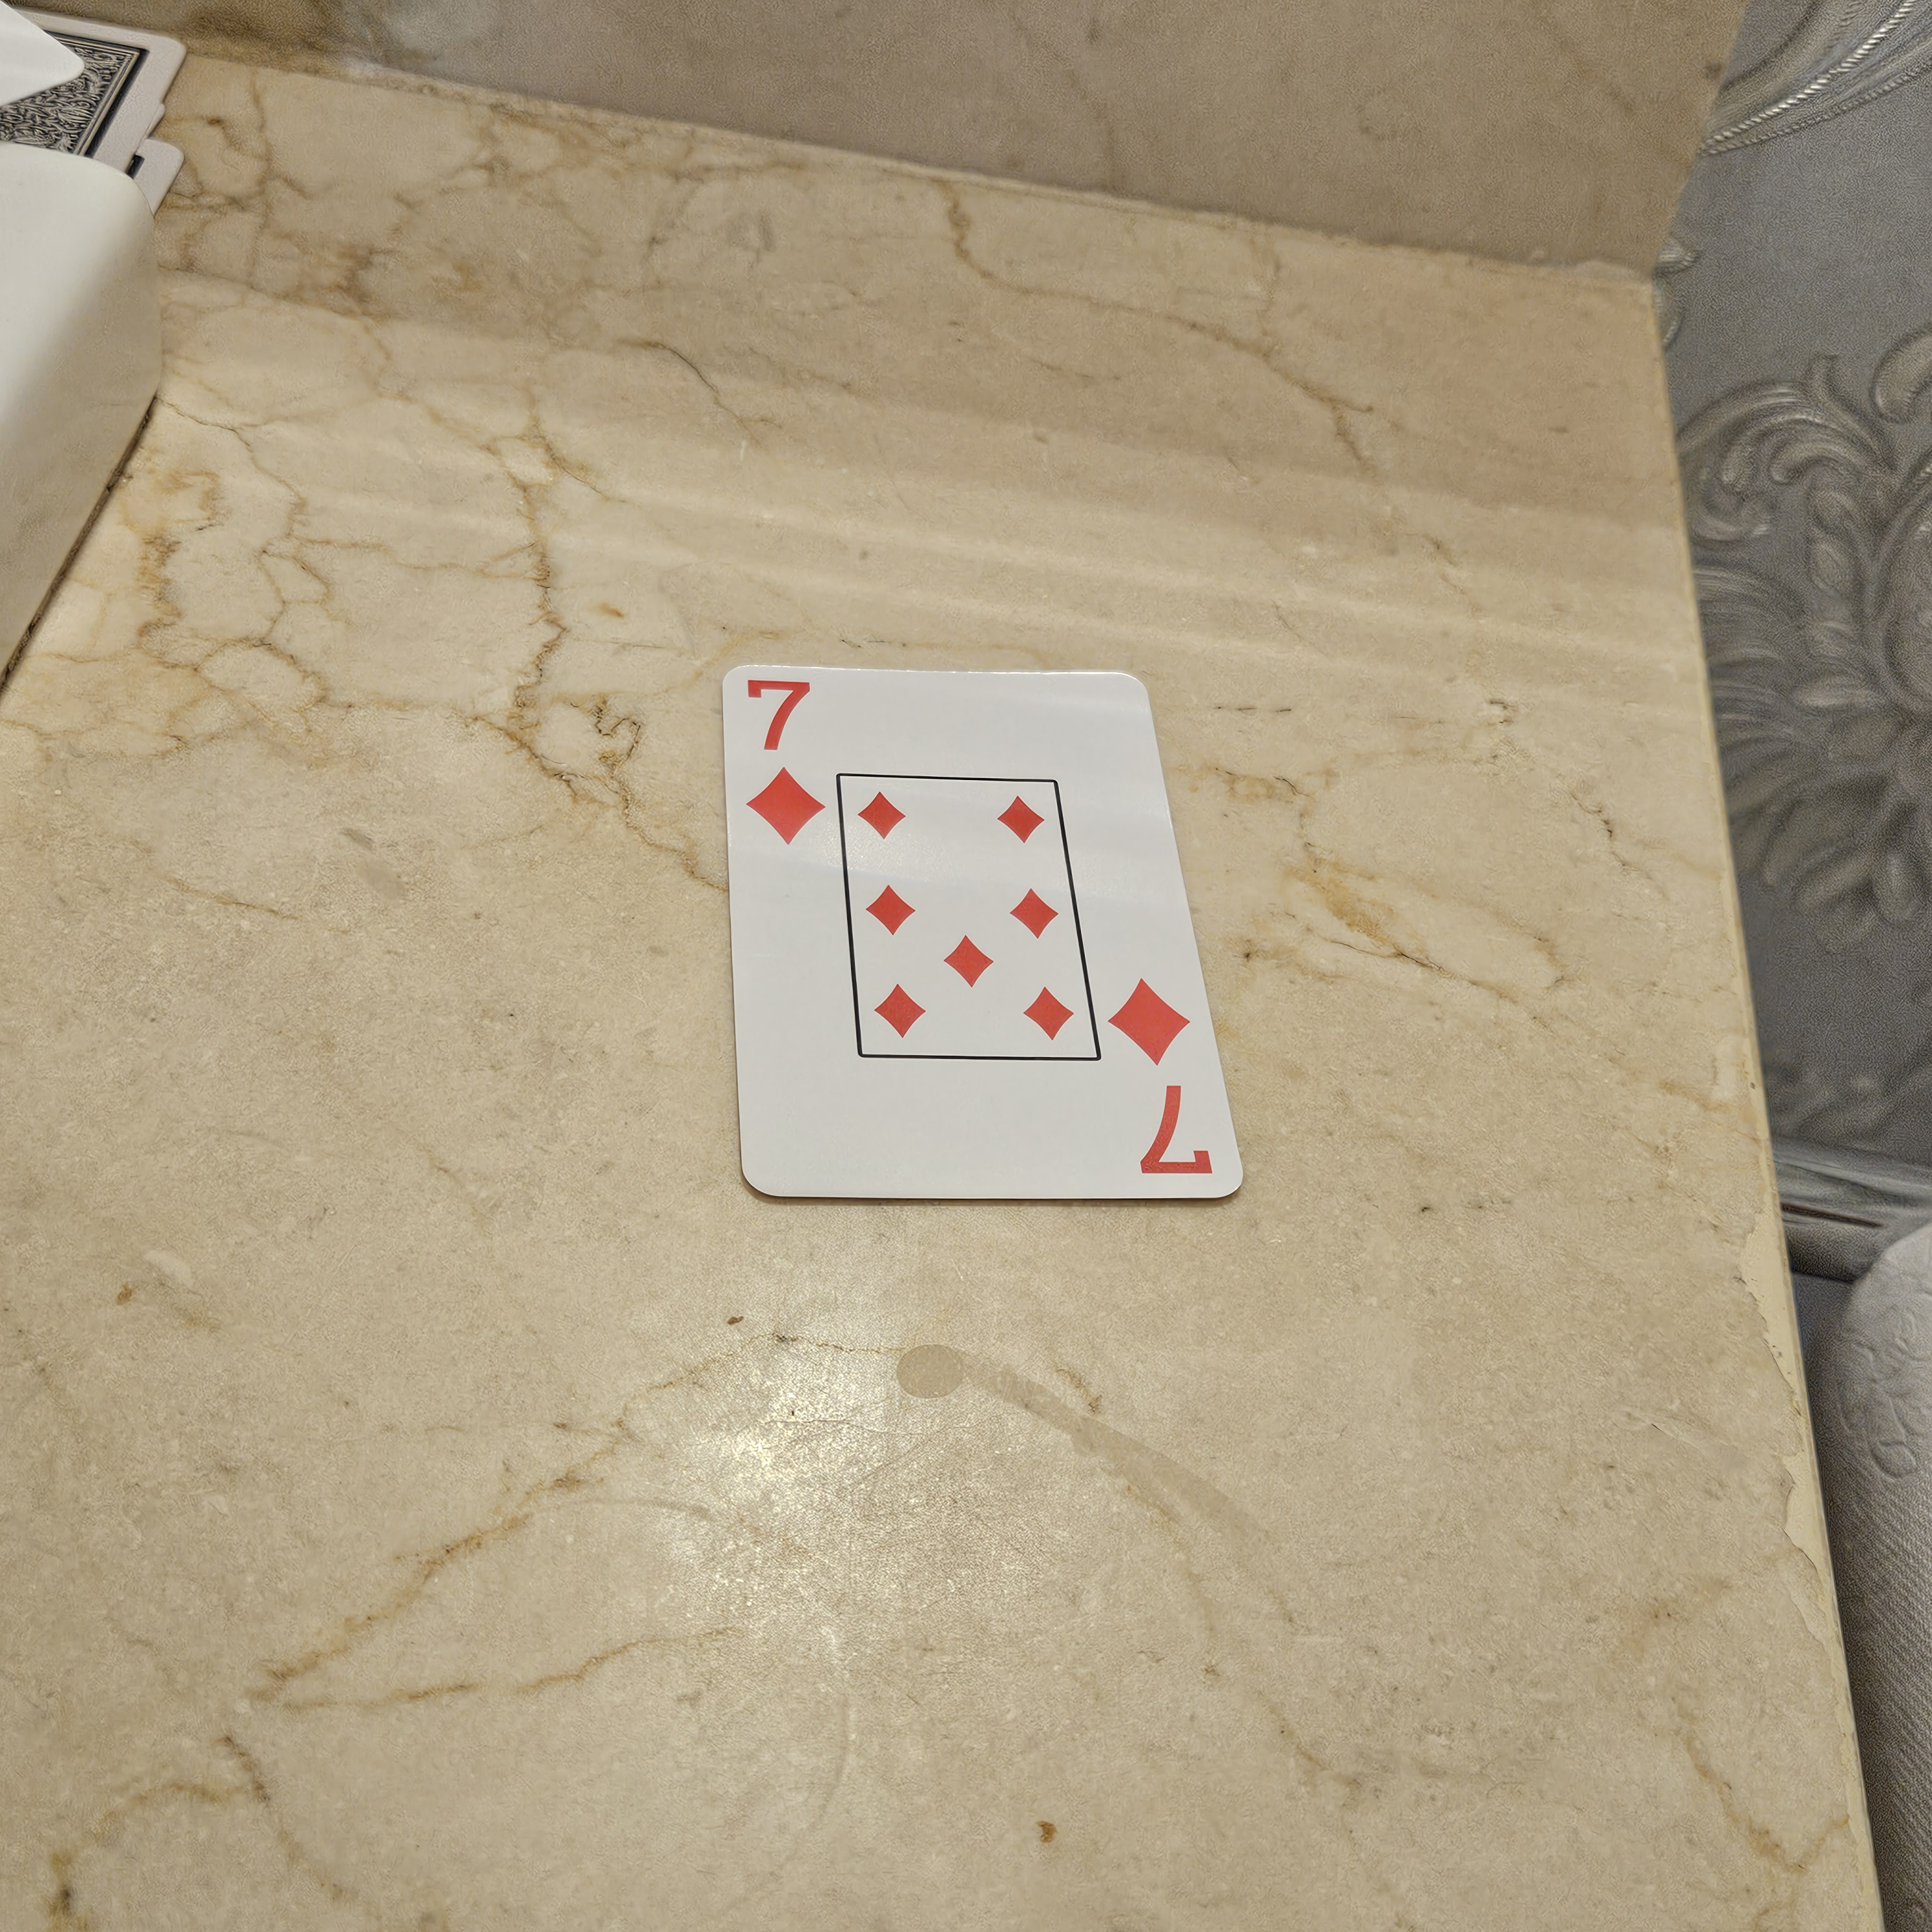7O: (1088, 955, 1244, 1198), (727, 665, 835, 863)
